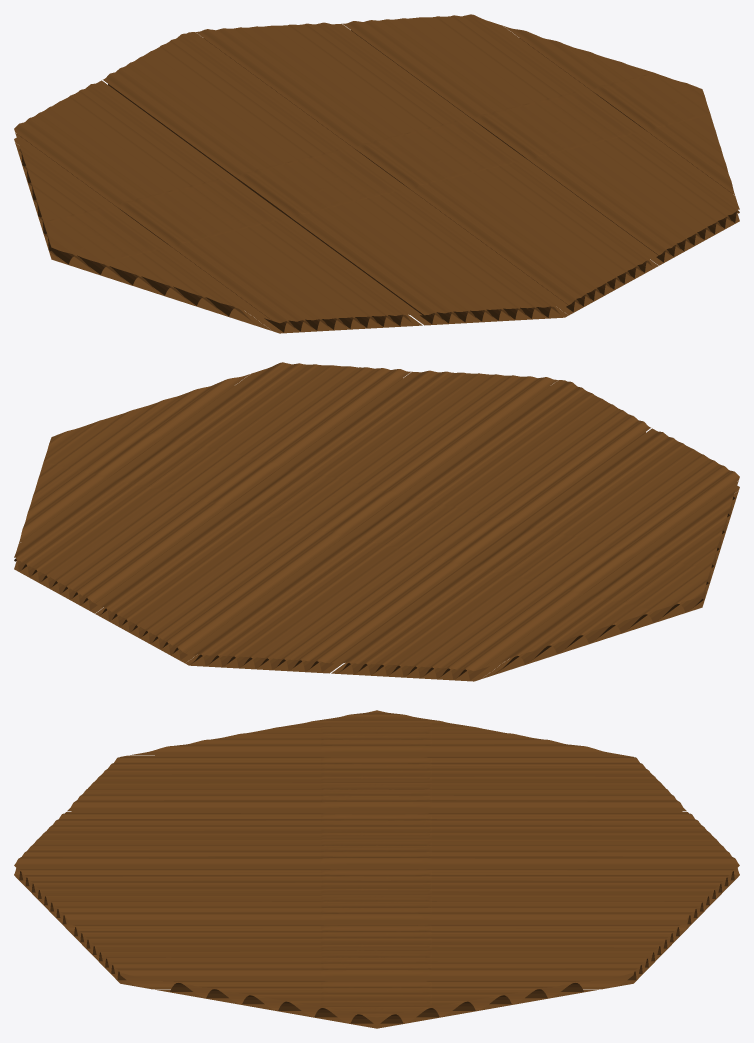
The model's file is Токен из картона шестригранный.fbx.
The picture shows the model from 3 angles, top to bottom: view 1: azimuth 30°, elevation 25°; view 2: azimuth 150°, elevation 25°; view 3: azimuth 270°, elevation 25°; orthographic projection. The views are drawn at different scales.
Parts seen in each view (by area): view 1: Plane.012; view 2: Plane.012; view 3: Plane.012.
Part boxes in pixels (x1,y1,x2,y2): Plane.012: [14, 14, 739, 333]; Plane.012: [14, 362, 739, 681]; Plane.012: [14, 710, 739, 1028].
Bounding box in the file's own units: 0.6106 × 0.6106 × 0.0115.
